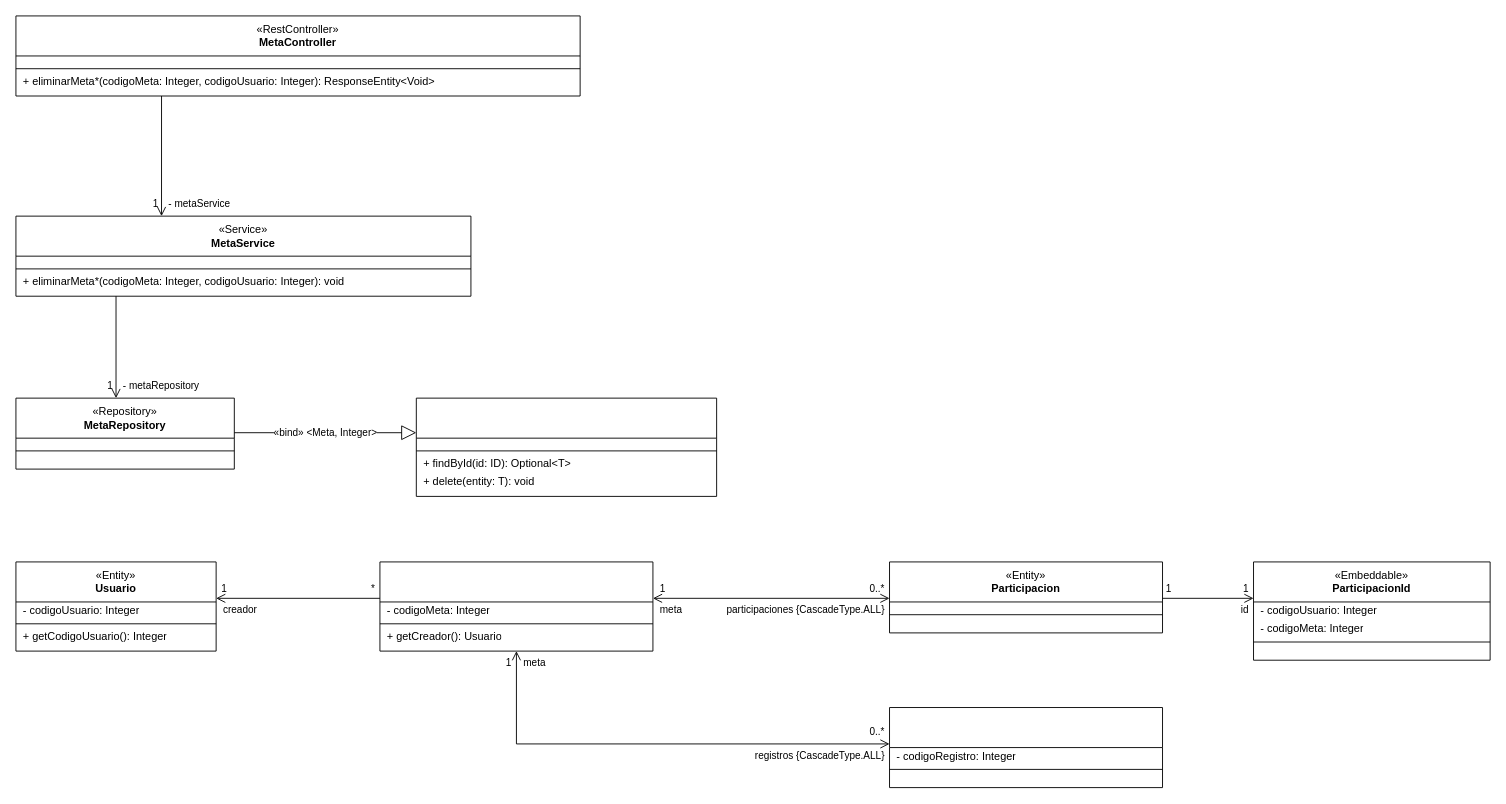
This 1506x804 diagram has some shape labels left out. The shapes that lost their labels are listed below. From the top down, each one's box as (x1, y1, x2, y2) in pixels, then its label:
(415, 397, 717, 496): «Interface» JpaRepository<T, ID>
(379, 561, 653, 651): «Entity» Meta
(889, 707, 1163, 788): «Entity» Registro
